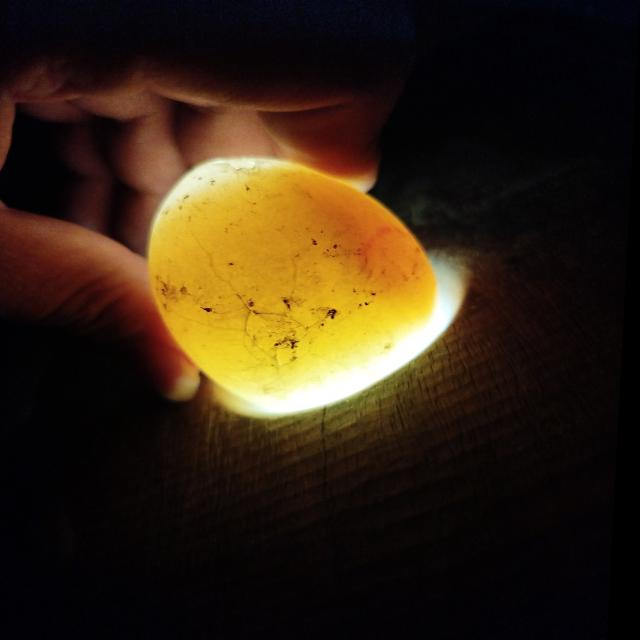Rachadura: (177, 235, 325, 371)
